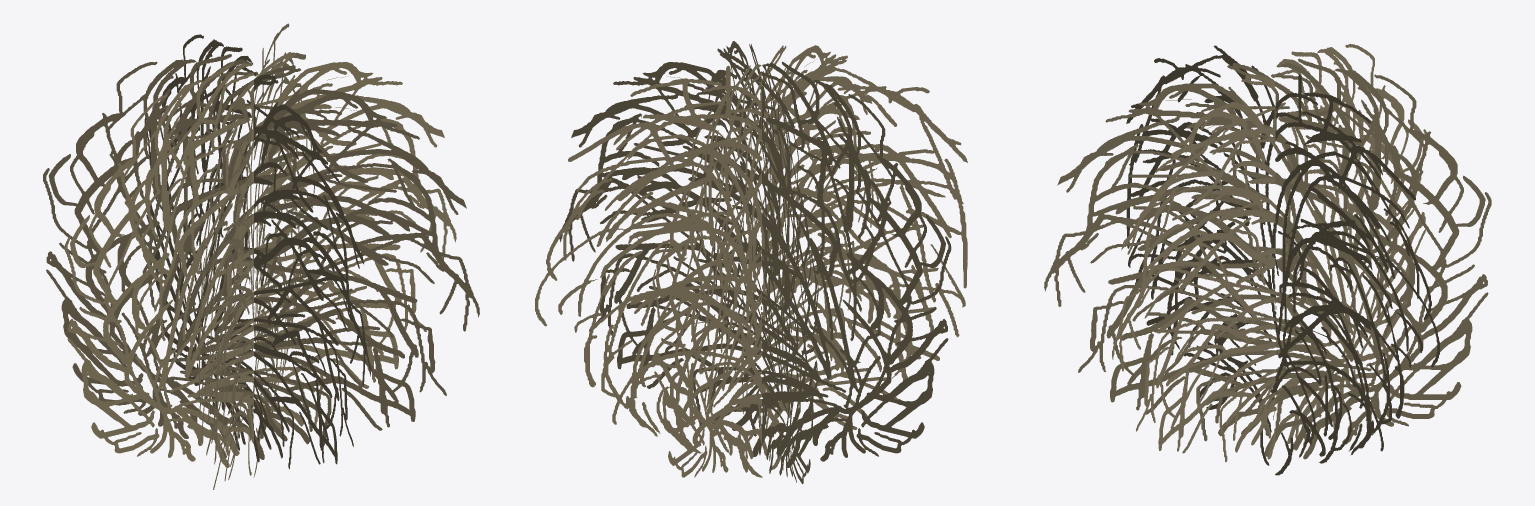
The model's file is Estepicursor.fbx.
3 views of the same model, side by side, from view 1: azimuth 30°, elevation 25°; view 2: azimuth 150°, elevation 25°; view 3: azimuth 270°, elevation 25° (orthographic).
Parts seen in each view (by area): view 1: Plane; view 2: Plane; view 3: Plane.
Part boxes in pixels (left/top/right/bottom): Plane: left=43, top=23, right=479, bottom=489; Plane: left=535, top=41, right=967, bottom=483; Plane: left=1044, top=44, right=1491, bottom=475.
Bounding box in the file's own units: 272 × 272 × 272.
